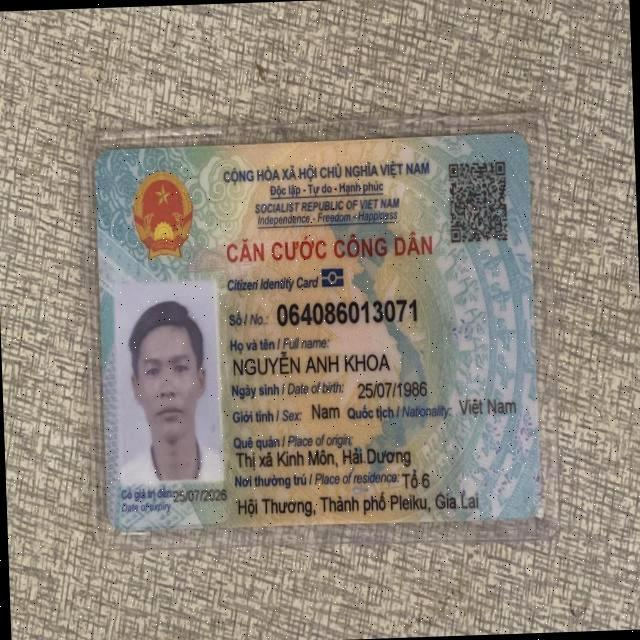current_place: (235, 485, 481, 523), (402, 467, 432, 492)
dob: (354, 375, 430, 402)
expire_date: (171, 482, 228, 508)
gender: (309, 399, 340, 425)
id: (270, 293, 426, 330)
name: (231, 350, 394, 377)
nationality: (456, 391, 520, 421)
origin_place: (235, 442, 412, 476)
qr: (441, 158, 516, 250)
